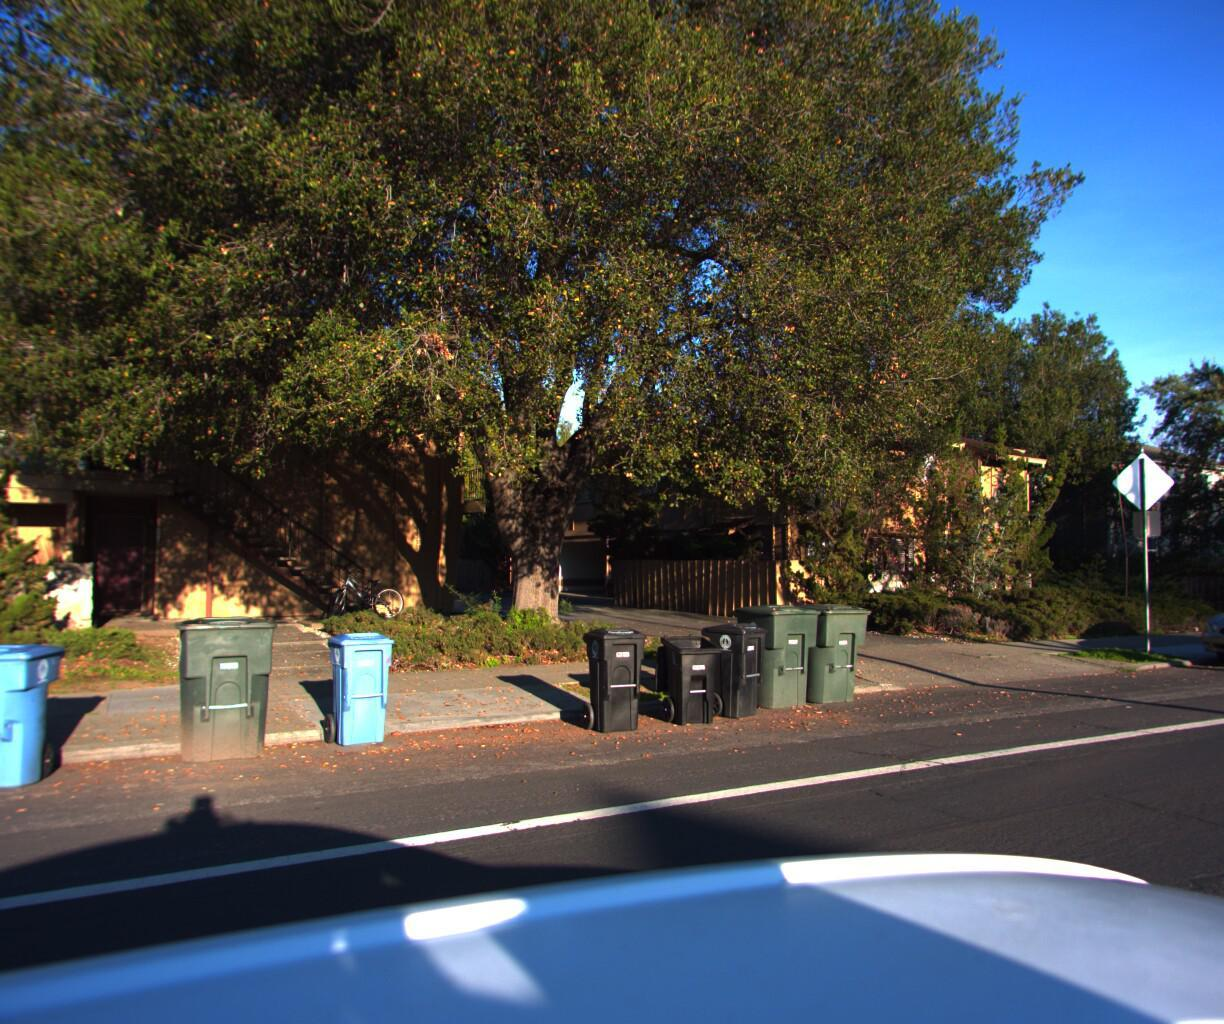bicycle: (305, 555, 413, 620)
car: (1160, 571, 1224, 679)
